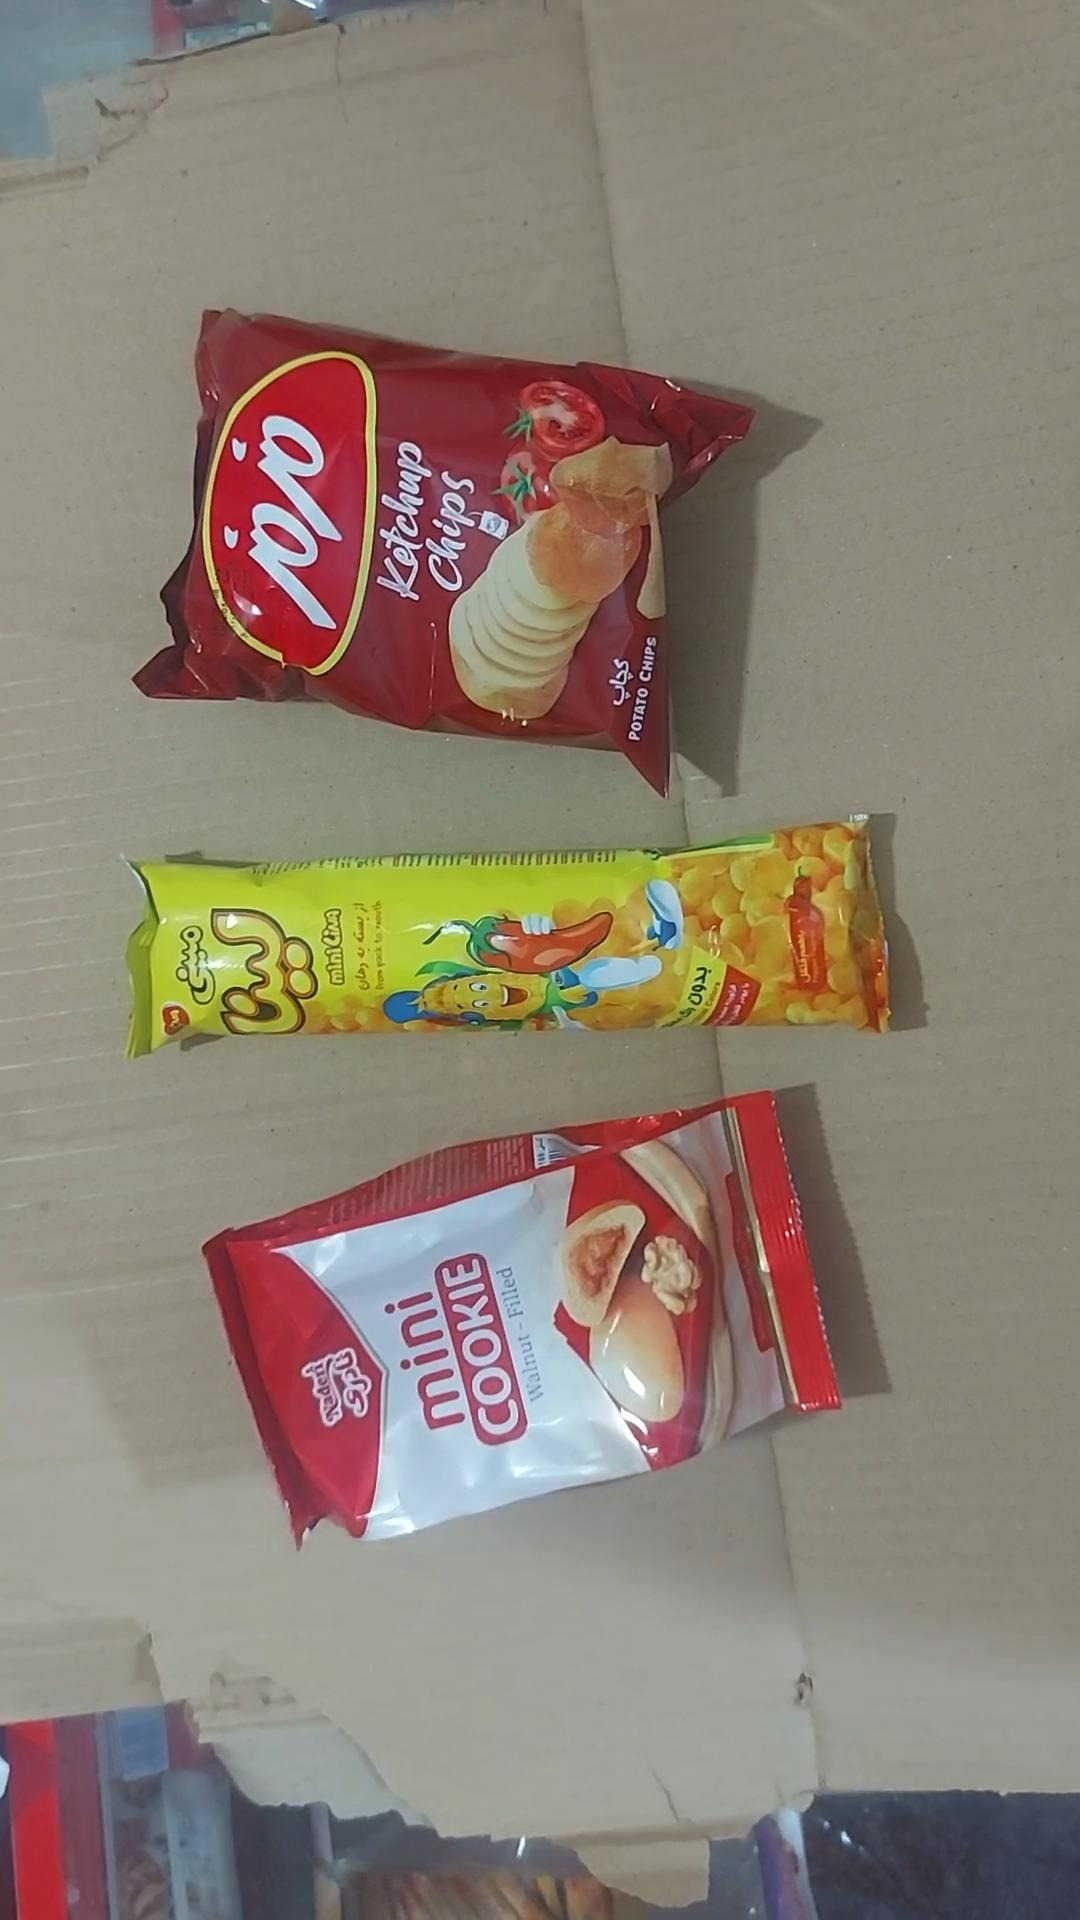Maz Maz ketchup chips: (135, 309, 750, 793)
Mini Lina: (127, 820, 890, 1056)
Naderi mini cookie: (204, 1096, 837, 1542)
